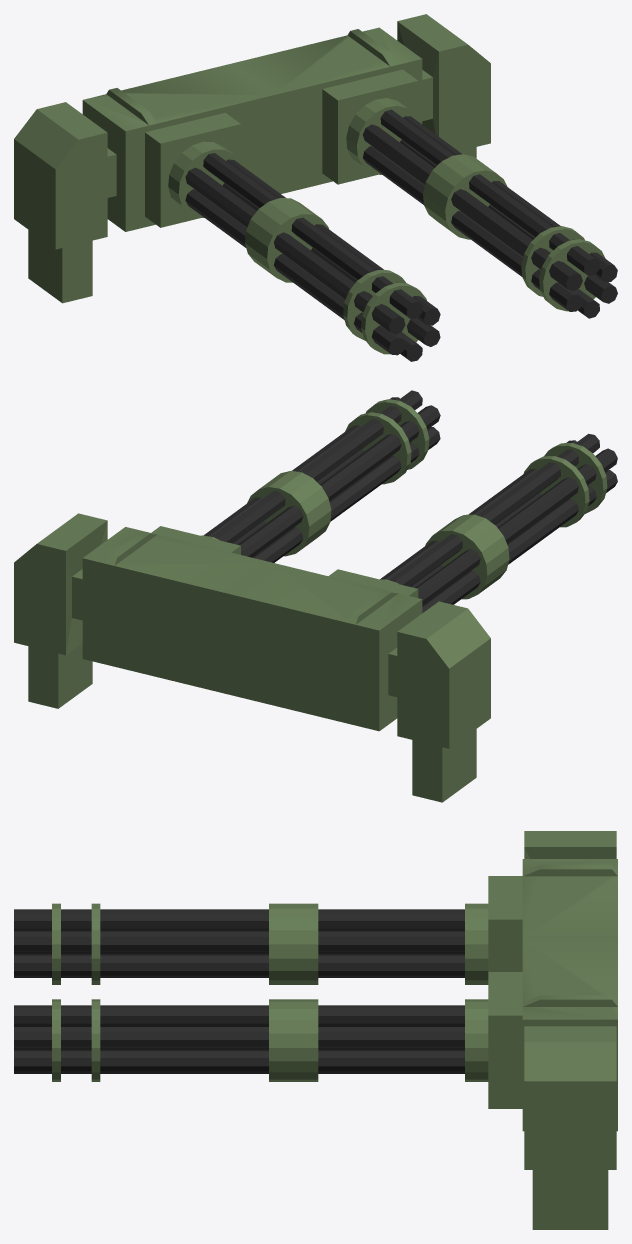
The model's file is Gatling Cannon.FBX.
The picture shows the model from 3 angles, top to bottom: view 1: azimuth 30°, elevation 25°; view 2: azimuth 150°, elevation 25°; view 3: azimuth 270°, elevation 25°; orthographic projection. The views are drawn at different scales.
Parts seen in each view (by area): view 1: Gatling Turret, Gatling Left Barrell, Gatling Right Barrell, Gatling Cylinders Right, Gatling Cylinders Left; view 2: Gatling Turret, Gatling Right Barrell, Gatling Left Barrell, Gatling Cylinders Right, Gatling Cylinders Left; view 3: Gatling Turret, Gatling Left Barrell, Gatling Right Barrell, Gatling Cylinders Left, Gatling Cylinders Right.
Boxes of the visible parts, <box> form: Gatling Turret: <box>14,14,490,303</box>; Gatling Left Barrell: <box>362,109,617,318</box>; Gatling Right Barrell: <box>185,153,440,361</box>; Gatling Cylinders Right: <box>245,198,426,354</box>; Gatling Cylinders Left: <box>423,154,605,311</box>; Gatling Turret: <box>14,513,490,802</box>; Gatling Right Barrell: <box>380,433,617,613</box>; Gatling Left Barrell: <box>203,390,440,562</box>; Gatling Cylinders Right: <box>425,443,607,599</box>; Gatling Cylinders Left: <box>247,399,429,556</box>; Gatling Turret: <box>465,831,617,1229</box>; Gatling Left Barrell: <box>14,1005,464,1073</box>; Gatling Right Barrell: <box>14,909,464,977</box>; Gatling Cylinders Left: <box>52,999,318,1081</box>; Gatling Cylinders Right: <box>52,903,318,984</box>.
Bounding box in the file's own units: 102 × 37.55 × 111.
